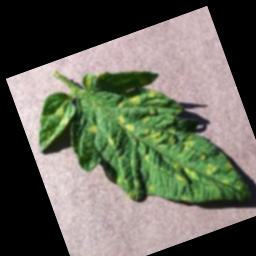Leaf_Mold: (49, 35, 251, 248)
